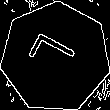L_SE: (26, 32, 85, 83)
